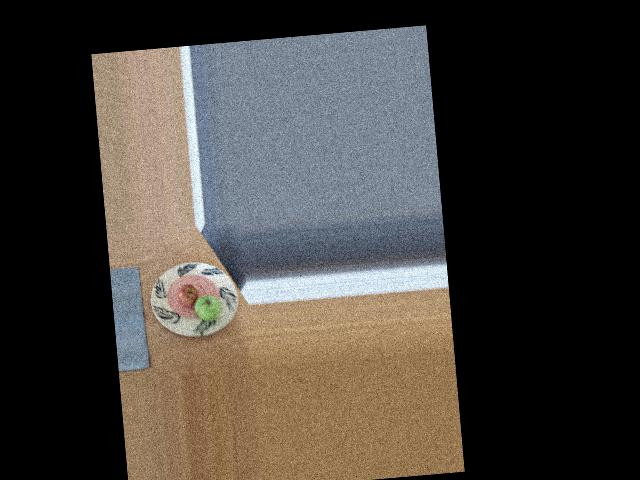apple: (193, 294, 224, 324)
